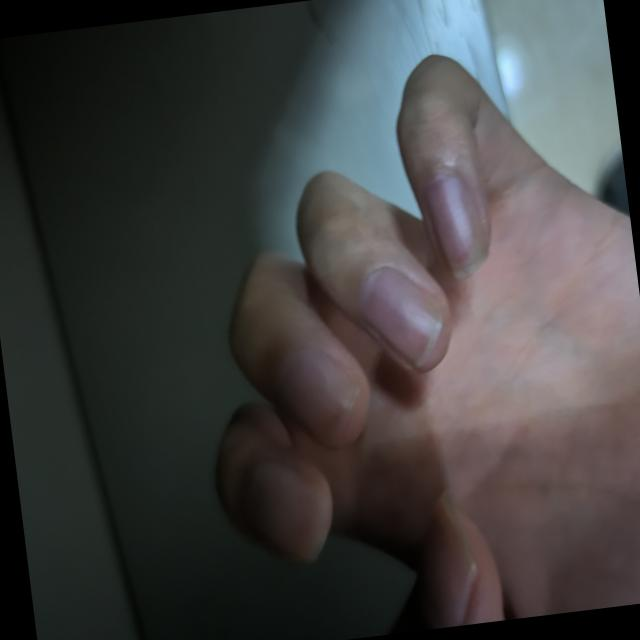Nail: (411, 492, 476, 627), (362, 265, 442, 365), (279, 345, 359, 438), (250, 460, 327, 555), (426, 169, 488, 276)
